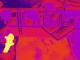Foc: (0, 31, 16, 56)
